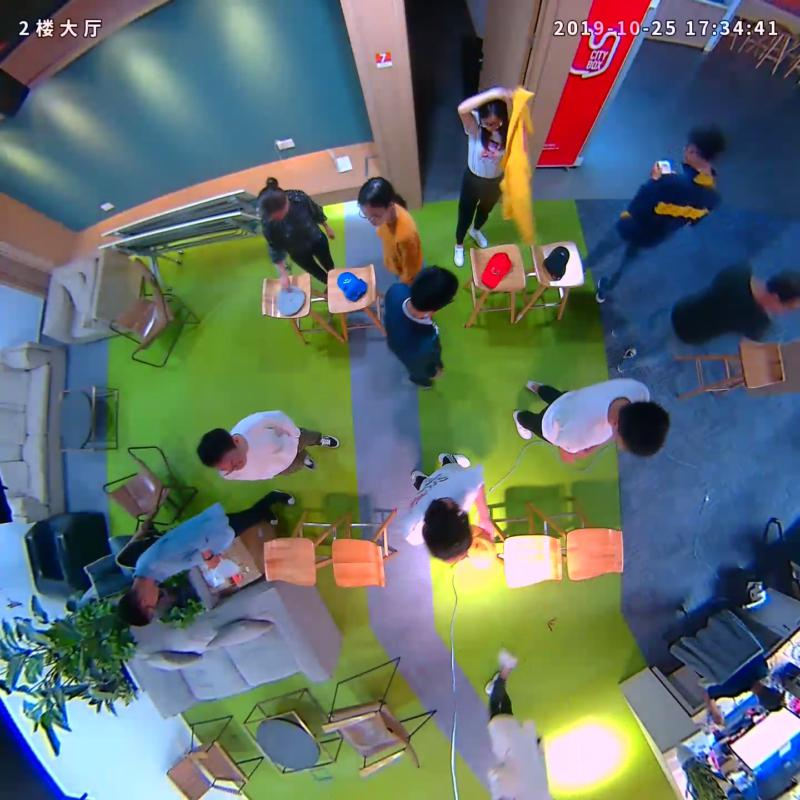head: (610, 395, 671, 462), (417, 500, 476, 566), (405, 261, 459, 318), (192, 426, 249, 477), (677, 119, 728, 176), (351, 174, 398, 229), (469, 90, 513, 142), (113, 579, 157, 627), (251, 174, 295, 222), (762, 259, 800, 307)
